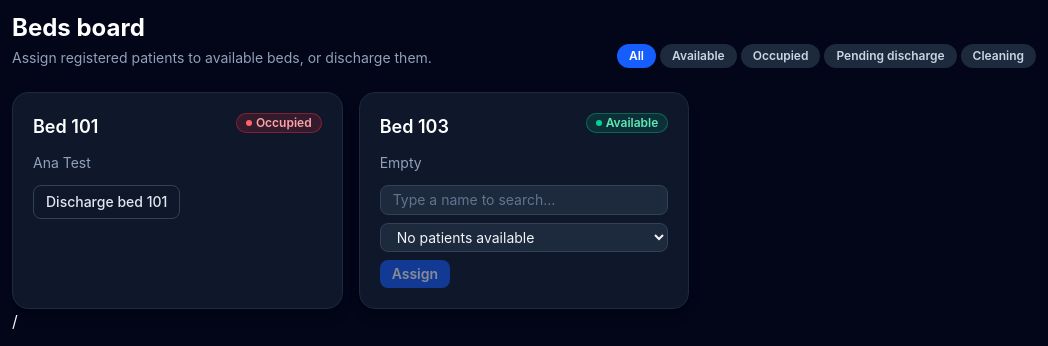
Test: BedsPage › filters the board without asking the API again
The width and height of the screenshot is (1048, 346).
Expected: the element "Bed 101" is shown, [12,92,343,309]
What coordinates should you click on to do the following:
click the button "Occupied"
I would click on:
 (781, 56)
Its box is [741,44,820,68].
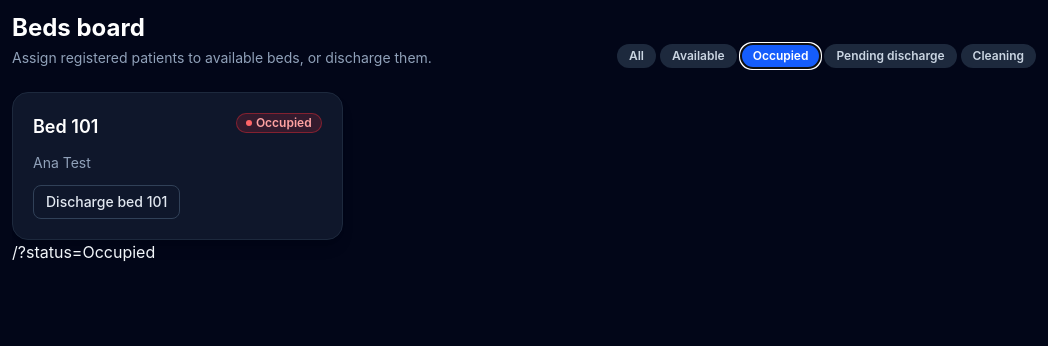
Expected: the element "Bed 101" is shown, [12,92,343,240]
Expected: the heading "Bed 103" is gone
